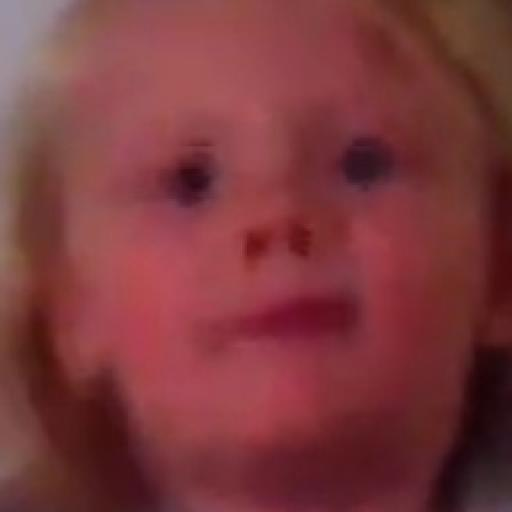Autism: (54, 38, 497, 462)
